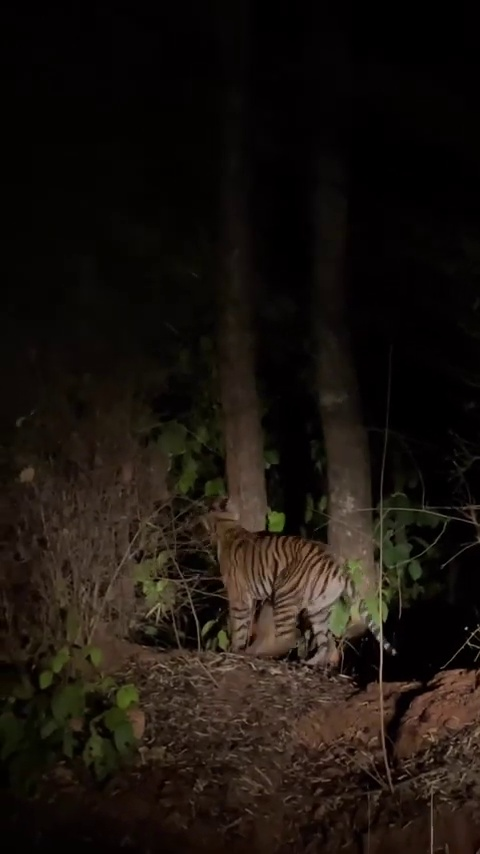Tiger: (192, 493, 397, 666)
